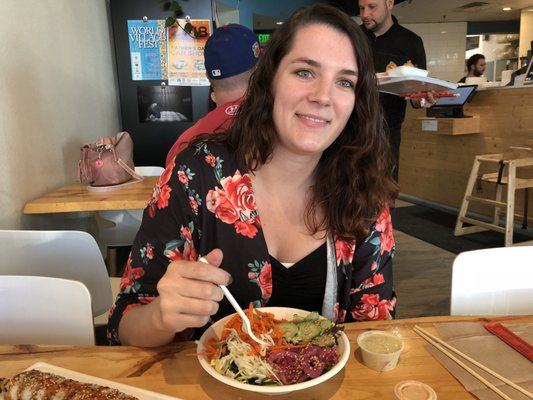pizza: (356, 331, 404, 373)
sandwich: (220, 284, 255, 335)
sushi: (196, 308, 352, 400), (356, 330, 404, 373)
